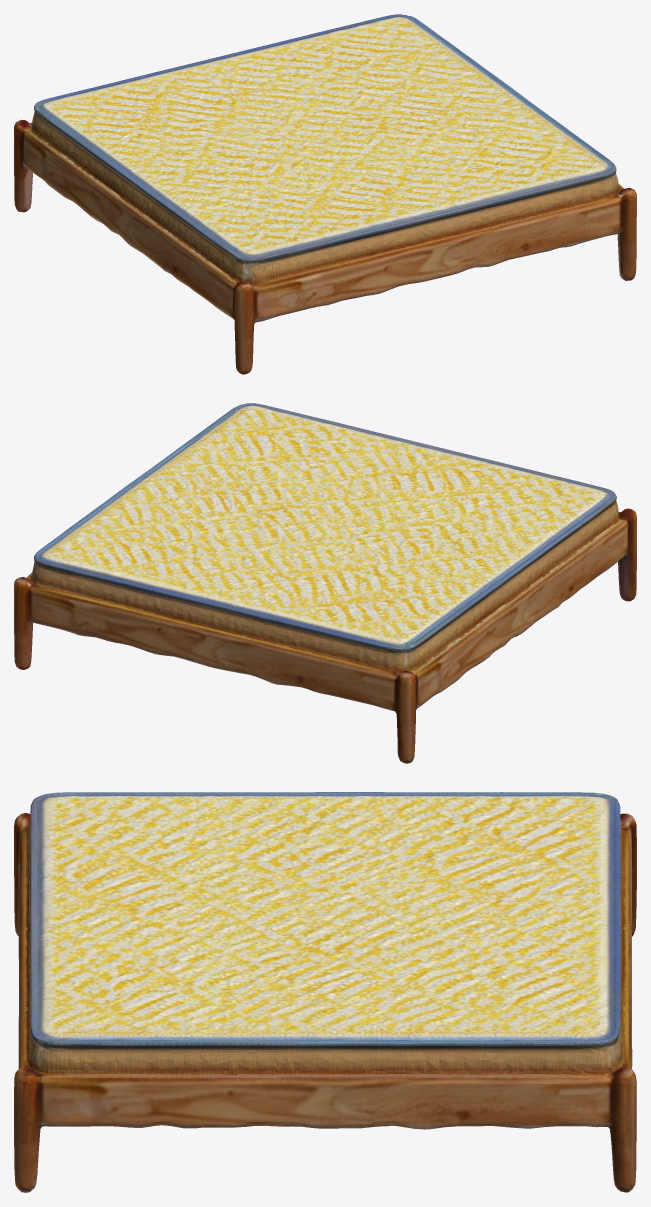
Rendered from mdl_bed_001.glb.
3 views of the same model, one above another, from view 1: azimuth 30°, elevation 25°; view 2: azimuth 150°, elevation 25°; view 3: azimuth 270°, elevation 25° (orthographic). The views are drawn at different scales.
Visible parts, largest first — view 1: tmp887j7nsp.ply; view 2: tmp887j7nsp.ply; view 3: tmp887j7nsp.ply.
Boxes of the visible parts, box(x1,y1,x2,y2) form: tmp887j7nsp.ply: box(14, 14, 636, 374); tmp887j7nsp.ply: box(14, 403, 636, 763); tmp887j7nsp.ply: box(14, 792, 636, 1192).
Bounding box in the file's own units: 0.9923 × 0.264 × 0.9898.
1 material, 1 textured.
